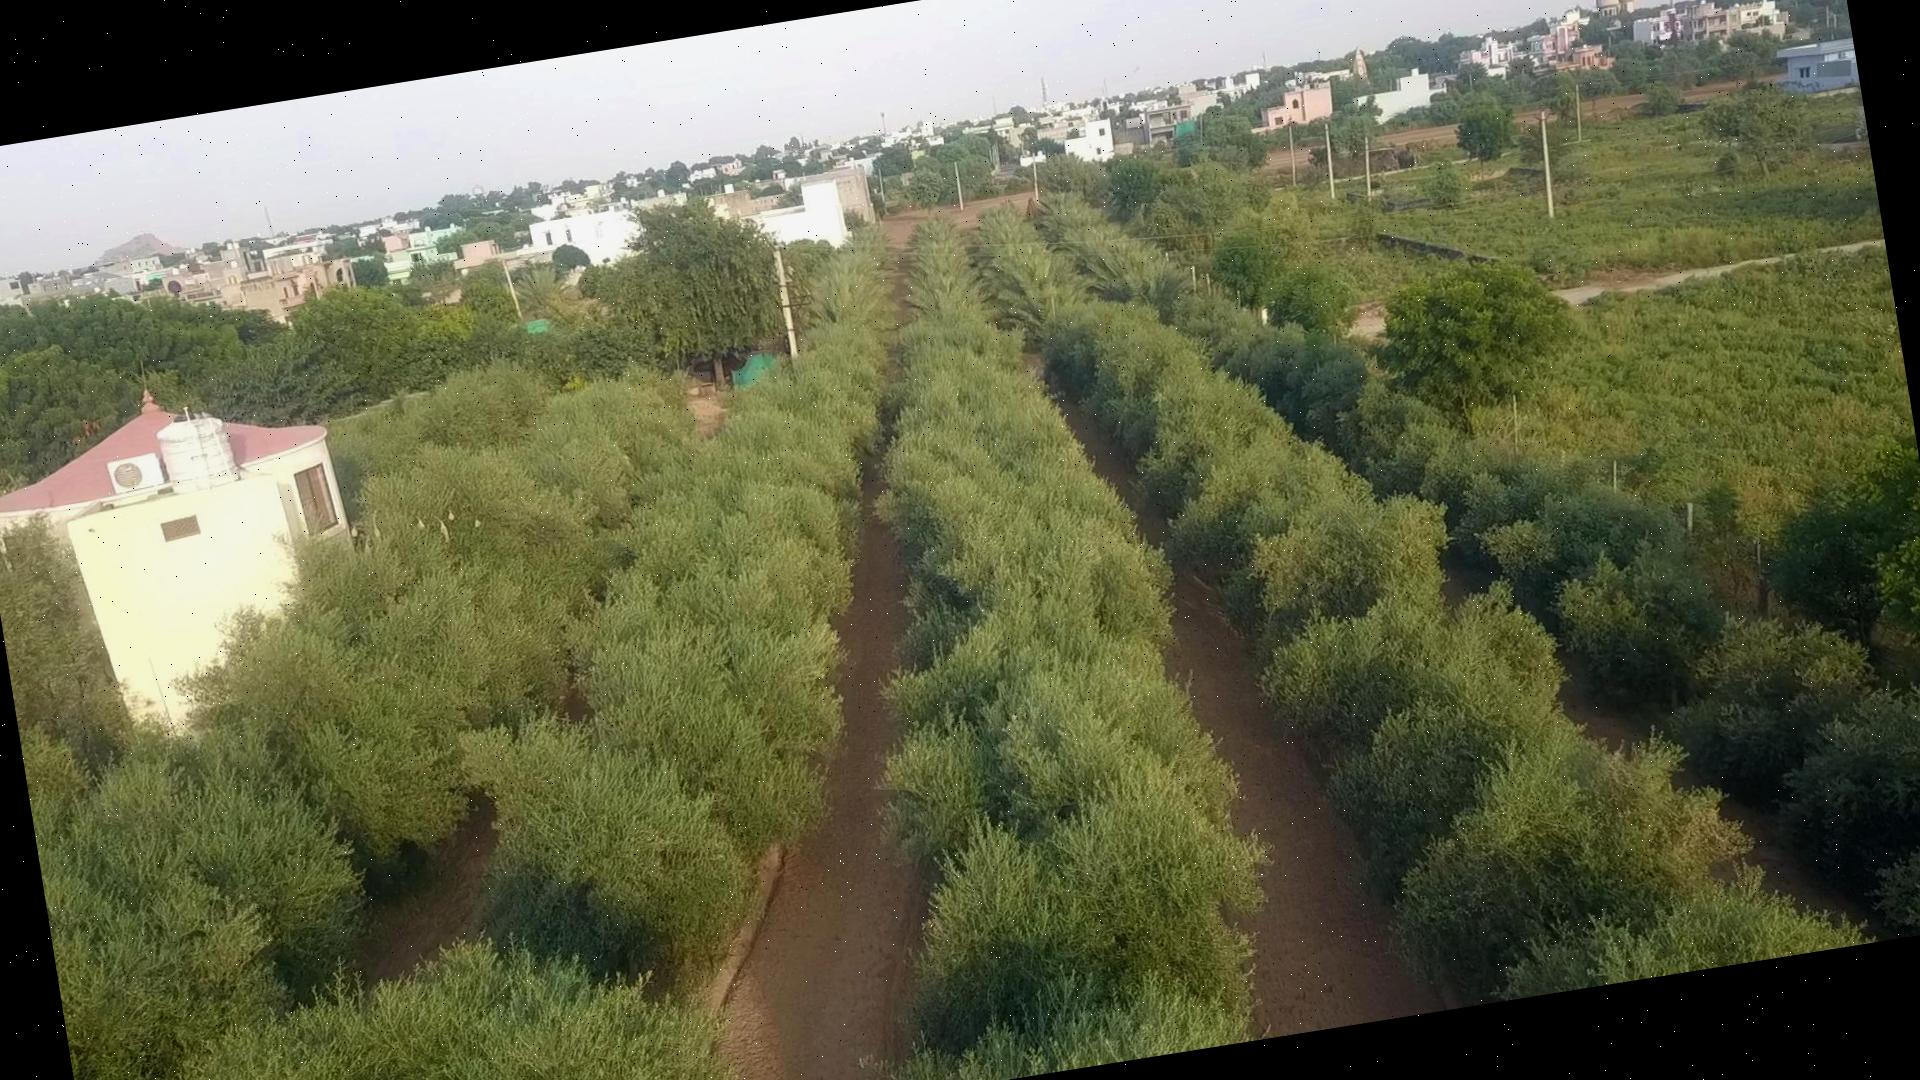canopy: (1048, 303, 1867, 1000), (191, 369, 872, 1080), (20, 368, 695, 1080), (1215, 326, 1920, 889), (881, 318, 1266, 1080)
road: (1051, 388, 1476, 1036), (709, 451, 936, 1080), (364, 891, 473, 980)
